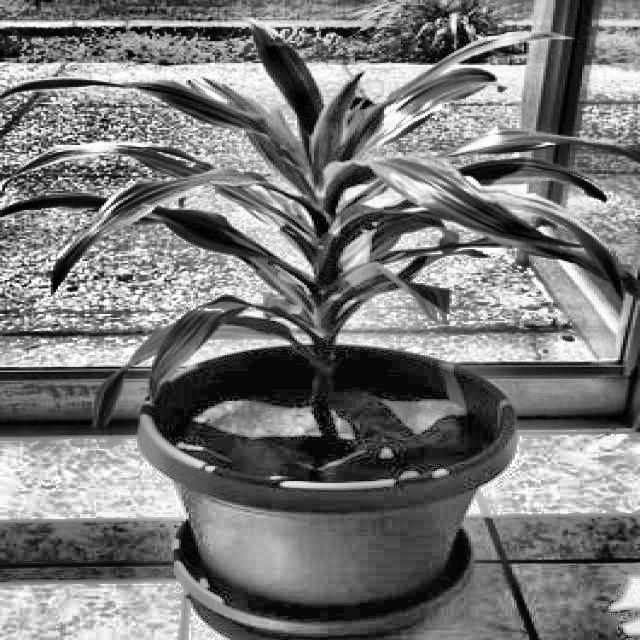plants: (19, 31, 638, 635)
